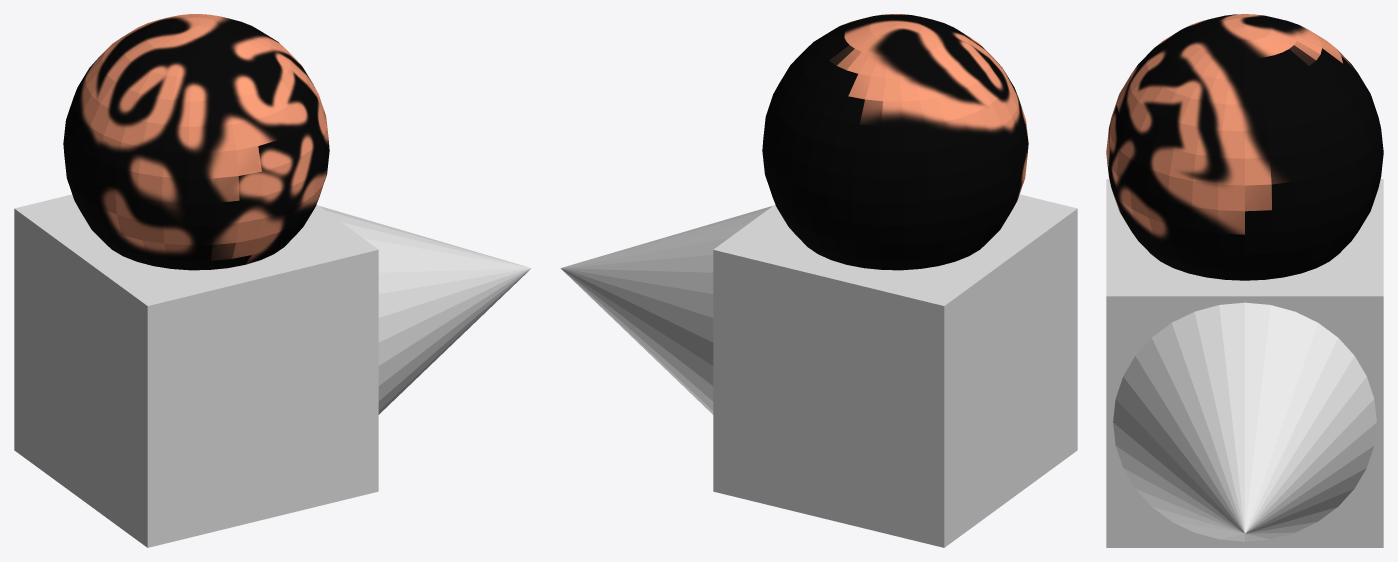
The picture shows the model from 3 angles, left to right: view 1: azimuth 30°, elevation 25°; view 2: azimuth 150°, elevation 25°; view 3: azimuth 270°, elevation 25°; orthographic projection. The views are drawn at different scales.
Visible parts, largest first — view 1: Cube, Sphere, Cone; view 2: Cube, Sphere, Cone; view 3: Sphere, Cone, Cube.
Part boxes in pixels (x1,y1,x2,y2): Cube: [14, 194, 378, 547]; Sphere: [63, 14, 329, 270]; Cone: [319, 206, 531, 414]; Cube: [713, 194, 1077, 547]; Sphere: [762, 14, 1028, 270]; Cone: [560, 206, 772, 414]; Sphere: [1106, 14, 1383, 280]; Cone: [1113, 302, 1376, 541]; Cube: [1106, 179, 1383, 547].
Bounding box in the file's own units: 3.9 × 3.68 × 2.
Materials: 2 (1 with a texture image).
